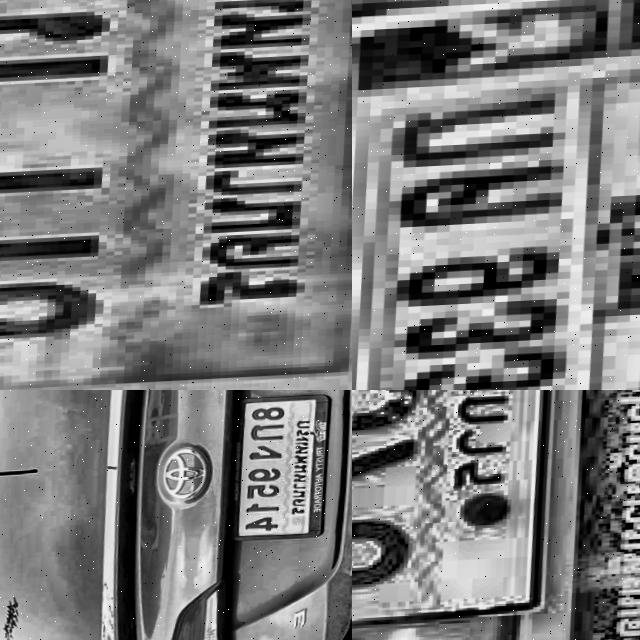license-plate: (0, 0, 352, 390), (352, 0, 640, 390), (352, 390, 616, 640), (223, 394, 344, 543)
